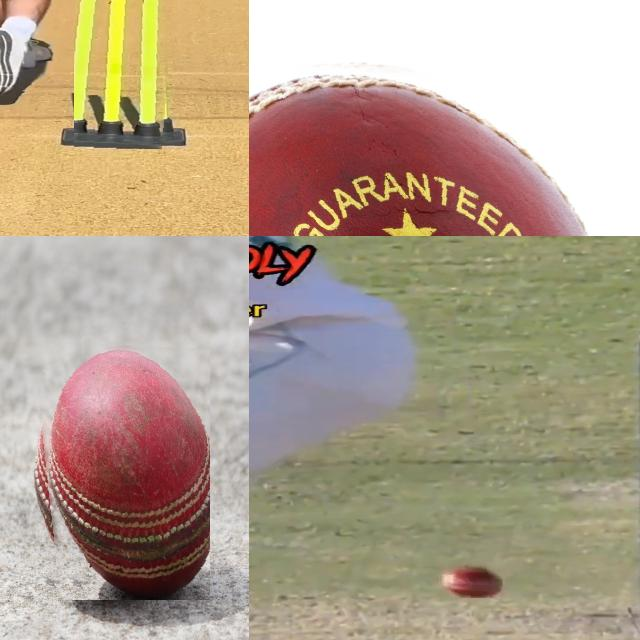Cricket ball: (249, 49, 589, 236), (32, 340, 210, 600), (438, 562, 505, 598)
Stumps: (74, 0, 176, 148)
